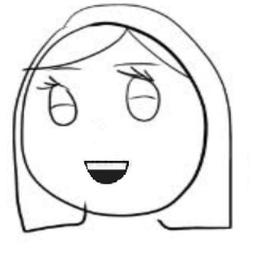eye: (111, 68, 169, 133), (35, 75, 87, 131)
eyebrow: (117, 56, 161, 72), (43, 62, 83, 71)
open_mouth: (77, 146, 139, 192)
